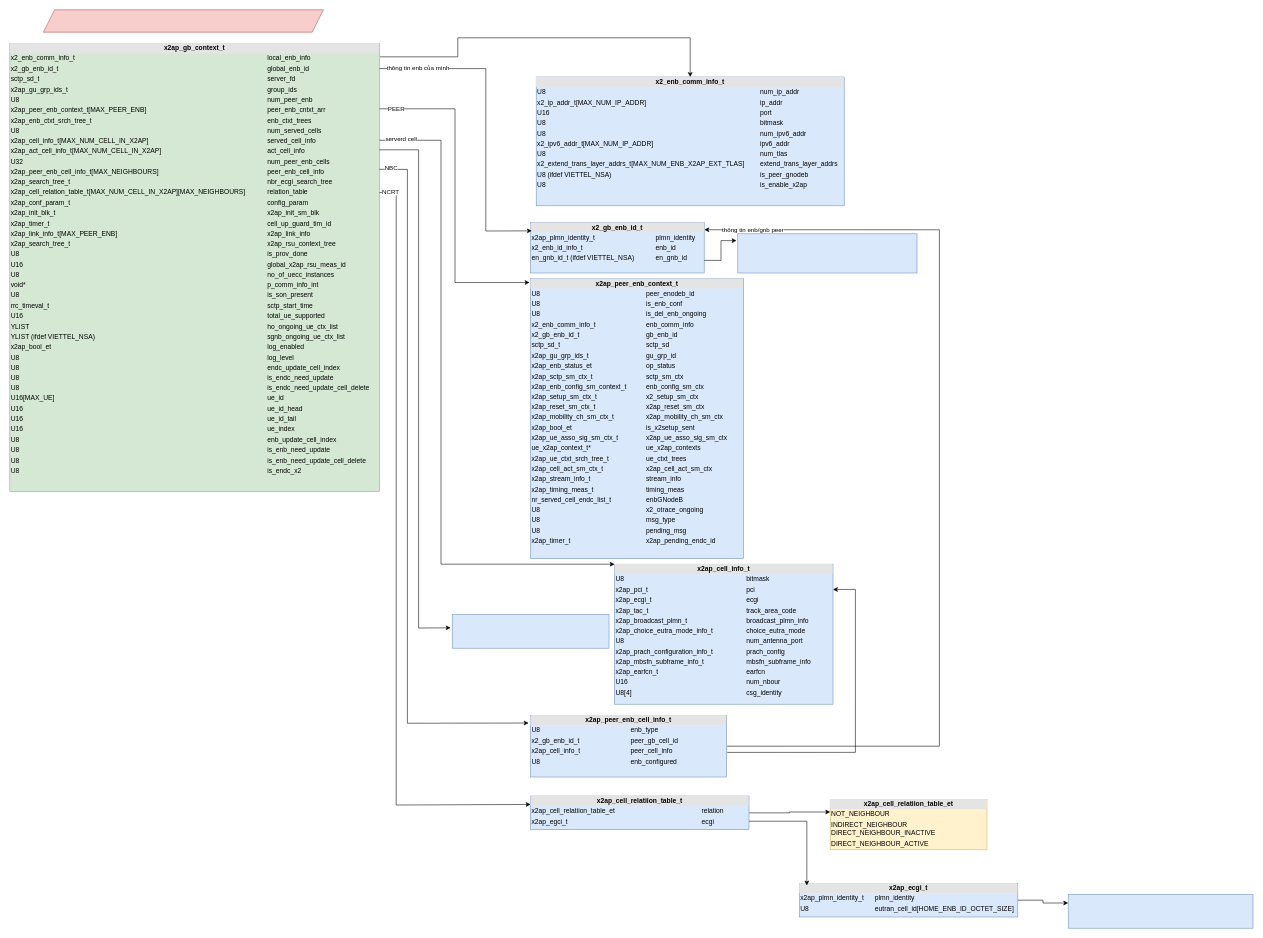
This 1263x938 diagram has some shape labels left out. The centre of each missing label's shape, as x and y in pixels:
"CÁC STRUCT TRONG GLB_CTX - X2AP LIÊN QUAN ĐẾN PEER + NEIGHBOR CELL" belongs at (x=183, y=20).
"en_gnb_id_t (NSA) U32 num_bit_string U8 [MACRO_GNB_ID_OCTET_SIZE] gNB_id" belongs at (x=827, y=253).
"x2ap_act_cell_info_t U8 cell_id x2ap_bool_et is_cell_active" belongs at (x=530, y=631).
"x2ap_plmn_identity_t U8 num_oct U8 plmn_id[MAX_PLMN_ID_BYTES]" belongs at (x=1160, y=911).
